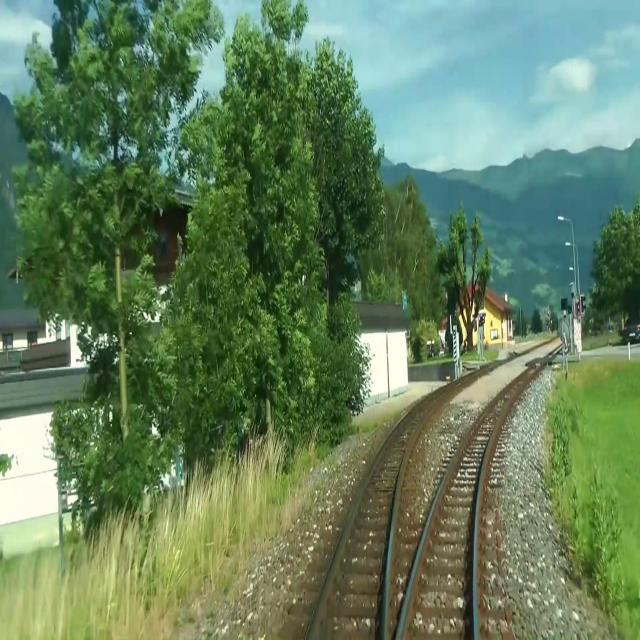rail-track: (403, 364, 541, 639), (312, 388, 448, 639)
